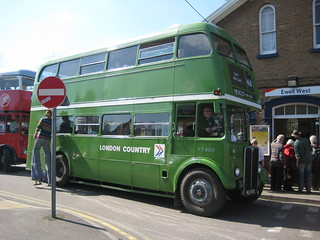bus: (25, 21, 268, 216)
